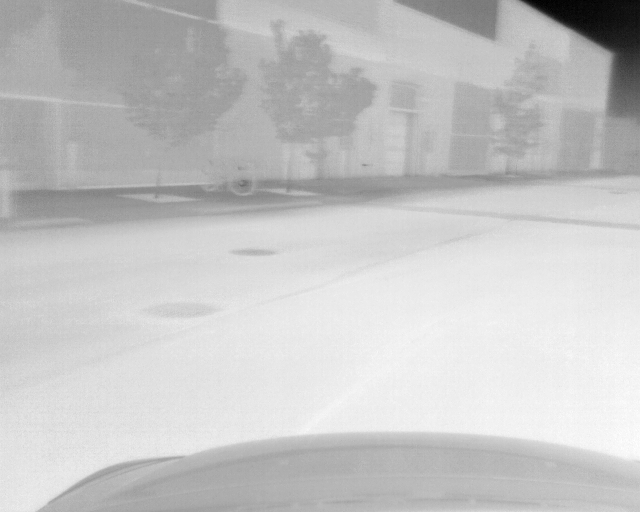bike: (199, 163, 255, 197)
